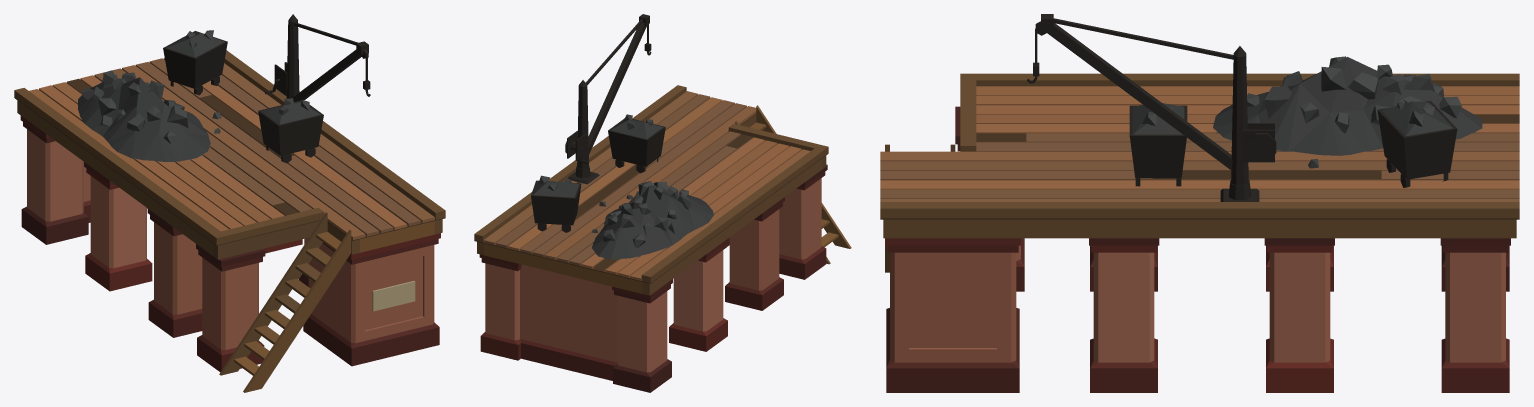
Rendered from coal-stage-2789f5.glb.
The picture shows the model from 3 angles, left to right: view 1: azimuth 30°, elevation 25°; view 2: azimuth 150°, elevation 25°; view 3: azimuth 270°, elevation 25°; orthographic projection. The views are drawn at different scales.
Parts seen in each view (by area): view 1: stage, tub-1, tub-2, jib, coal; view 2: stage, jib, tub-1, tub-2, coal; view 3: stage, jib, tub-2, coal, tub-1.
Part boxes in pixels (left/top/right/bottom): stage: left=14, top=50, right=445, bottom=392; tub-1: left=258, top=98, right=323, bottom=163; tub-2: left=163, top=30, right=227, bottom=95; jib: left=265, top=14, right=370, bottom=101; coal: left=81, top=70, right=221, bottom=144; stage: left=474, top=85, right=851, bottom=392; jib: left=565, top=14, right=651, bottom=168; tub-1: left=608, top=114, right=665, bottom=173; tub-2: left=531, top=175, right=581, bottom=232; coal: left=592, top=181, right=691, bottom=248; stage: left=880, top=57, right=1519, bottom=392; jib: left=1027, top=14, right=1276, bottom=185; tub-2: left=1377, top=98, right=1457, bottom=187; coal: left=1247, top=56, right=1461, bottom=168; tub-1: left=1129, top=103, right=1187, bottom=186.
Bounding box in the file's own units: 4 × 5.02 × 8.
